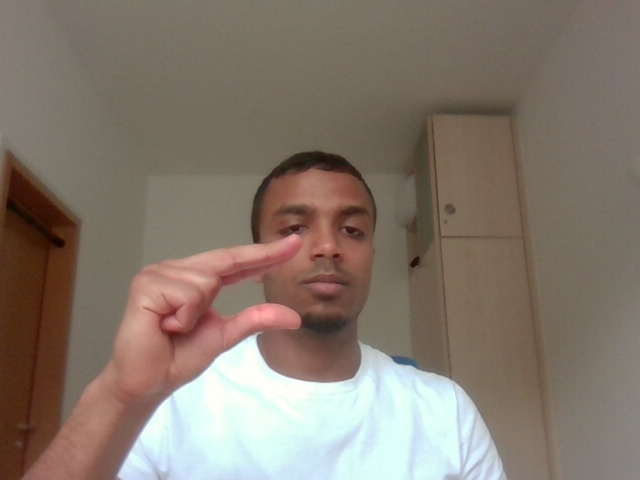never: (103, 219, 316, 405)
